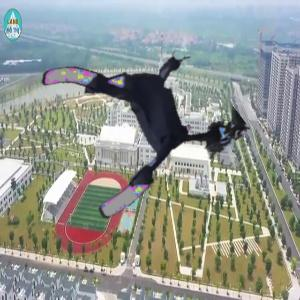drone: (45, 28, 218, 201)
